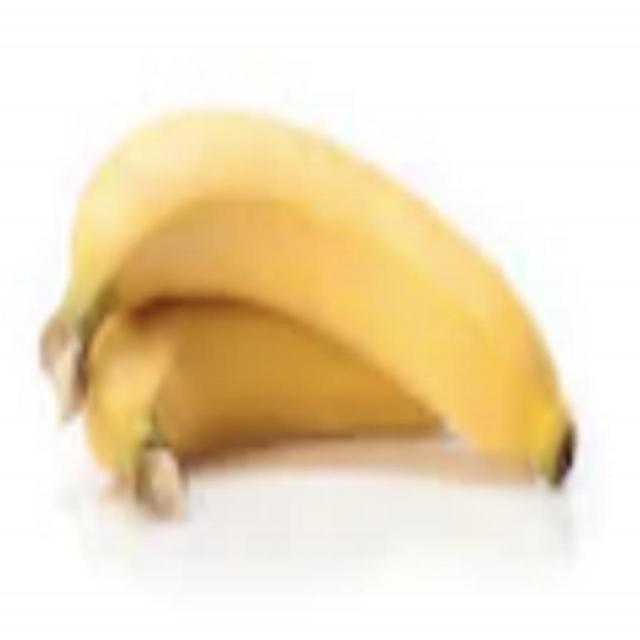banana: (23, 74, 597, 492)
